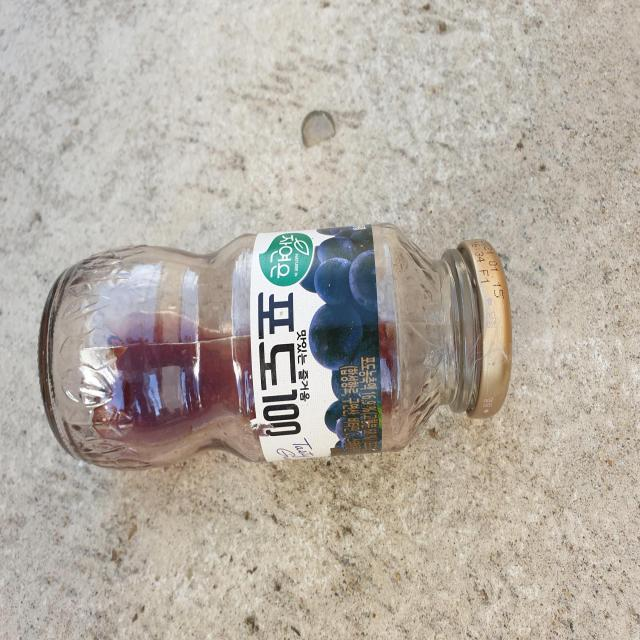glass: (38, 224, 513, 469)
